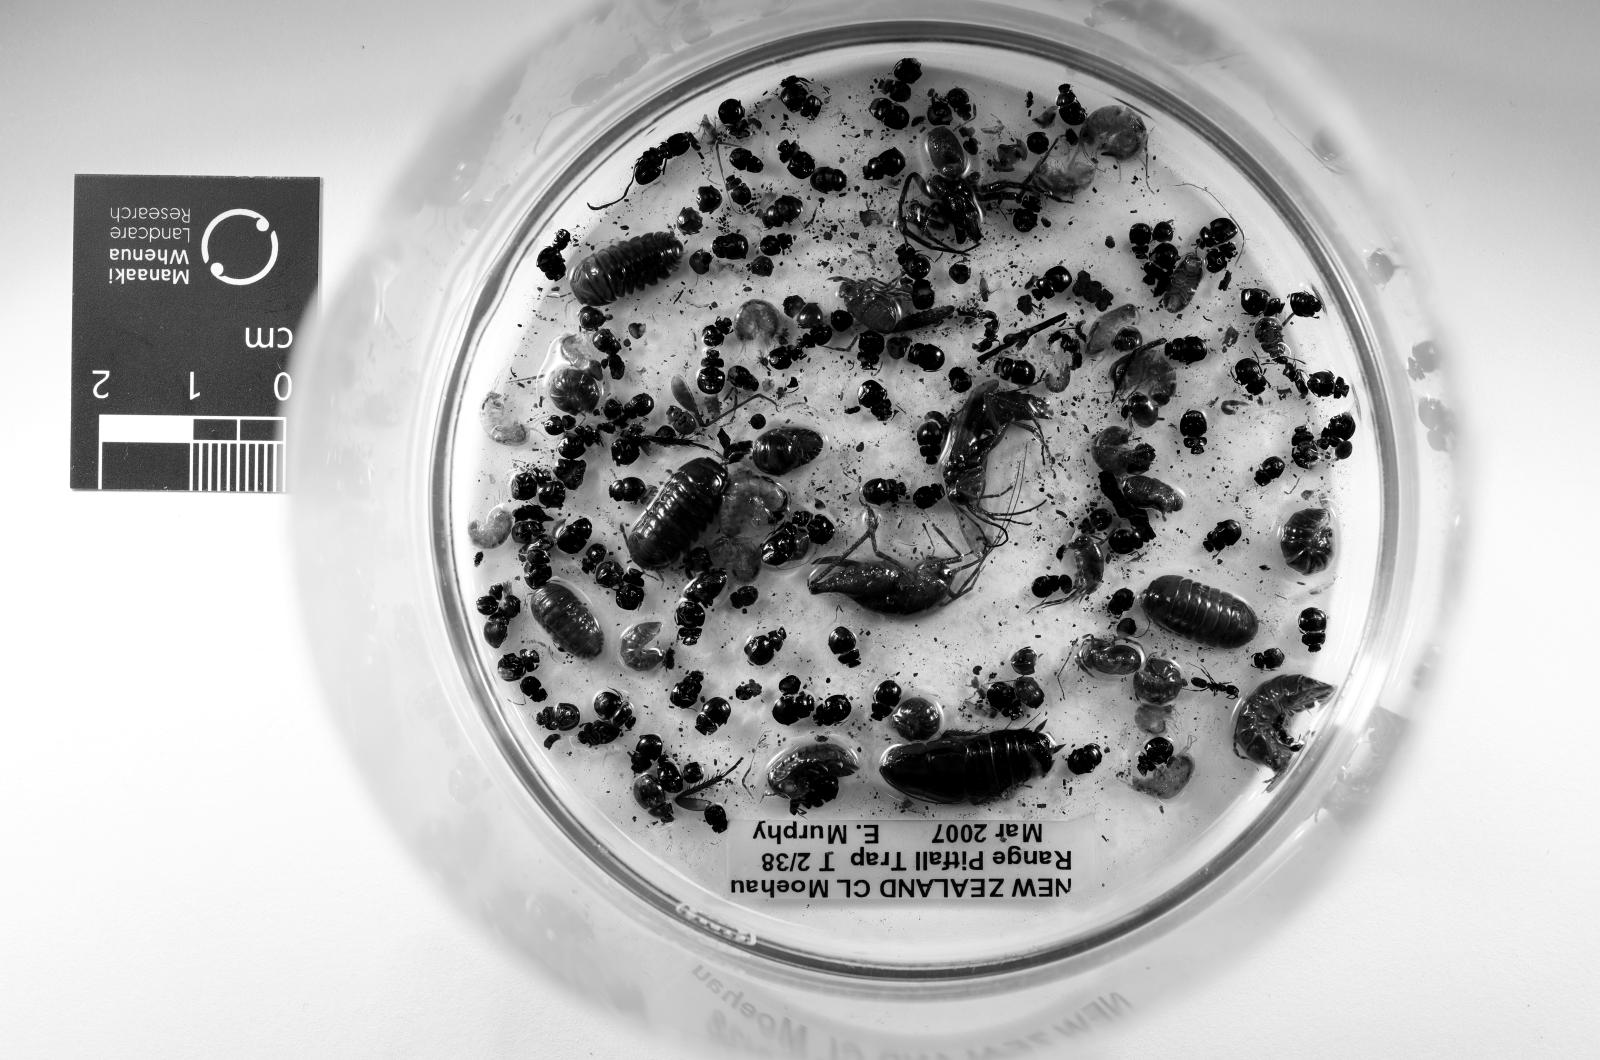acari: (759, 354, 772, 366)
amphipoda: (719, 469, 791, 537), (1044, 537, 1106, 606), (1109, 345, 1175, 407), (1078, 106, 1147, 161), (1131, 755, 1194, 801), (478, 391, 528, 447), (706, 537, 762, 584), (1028, 161, 1097, 199), (1088, 304, 1138, 354), (469, 503, 512, 550), (734, 301, 781, 342), (559, 335, 603, 370), (1134, 705, 1172, 736), (1041, 363, 1072, 394)
araneae: (897, 127, 1041, 252)
blattodea: (878, 720, 1062, 804)
coleoptera: (634, 773, 675, 823), (681, 568, 728, 609), (744, 627, 788, 665), (594, 689, 634, 730), (778, 140, 816, 180), (856, 379, 894, 419), (794, 509, 834, 547), (759, 525, 797, 565), (1144, 242, 1178, 286), (772, 693, 816, 727), (675, 599, 706, 646), (559, 425, 600, 460), (897, 242, 931, 283), (1031, 267, 1072, 301), (784, 295, 825, 329), (1056, 84, 1088, 127), (1138, 736, 1175, 773), (1319, 413, 1356, 450), (862, 149, 906, 180), (994, 357, 1038, 388), (497, 649, 541, 680), (869, 96, 909, 130), (988, 680, 1022, 720), (538, 702, 581, 733), (1297, 609, 1328, 652), (556, 519, 591, 556), (1203, 519, 1241, 553), (697, 348, 725, 394), (781, 87, 822, 118), (719, 99, 750, 140), (762, 196, 803, 227), (1197, 217, 1238, 248), (509, 469, 550, 500), (812, 696, 853, 727), (828, 627, 859, 668), (669, 671, 703, 708), (697, 699, 731, 736), (522, 550, 553, 590), (631, 733, 662, 773), (916, 419, 944, 463), (862, 478, 906, 506), (616, 568, 644, 612), (1291, 425, 1319, 469), (1241, 289, 1284, 317), (1166, 335, 1209, 363), (1178, 410, 1206, 453), (634, 149, 666, 186), (1234, 357, 1266, 394), (906, 342, 944, 373), (856, 329, 884, 370), (1066, 745, 1103, 776), (872, 680, 900, 720), (1306, 373, 1350, 398), (578, 720, 622, 745), (609, 432, 641, 466), (538, 245, 566, 283), (712, 233, 750, 261), (609, 475, 647, 503), (1109, 528, 1147, 556), (1206, 242, 1238, 273), (1012, 677, 1044, 708), (947, 87, 975, 121), (725, 174, 753, 208), (656, 758, 684, 792), (1078, 506, 1112, 534), (809, 168, 847, 193), (1128, 224, 1153, 261), (484, 612, 509, 649), (512, 519, 544, 547), (759, 233, 794, 258), (703, 317, 731, 348), (666, 407, 697, 435), (728, 149, 762, 174), (769, 345, 803, 370), (659, 134, 694, 158), (909, 279, 934, 311), (912, 484, 944, 509), (581, 543, 606, 575), (594, 329, 622, 357), (1291, 292, 1322, 317), (800, 323, 831, 348), (728, 366, 759, 391), (1256, 457, 1284, 484), (1250, 649, 1284, 671), (878, 78, 909, 102), (625, 394, 653, 419), (947, 366, 972, 394), (519, 677, 547, 702), (703, 804, 728, 832), (728, 587, 759, 609), (603, 398, 628, 425), (1031, 575, 1059, 599), (544, 416, 575, 435), (553, 230, 572, 252), (747, 118, 762, 130)
diptera: (963, 276, 1005, 304), (1025, 90, 1034, 112)
formicidae: (1275, 354, 1309, 398), (972, 311, 1000, 354), (1050, 332, 1081, 370), (1191, 677, 1238, 699)
hymenoptera: (938, 382, 1053, 553)
isopoda: (625, 460, 728, 571), (1234, 674, 1334, 773), (1141, 575, 1259, 649), (572, 233, 684, 307), (531, 581, 603, 661), (769, 742, 859, 798), (1278, 509, 1334, 575), (753, 429, 822, 475), (1134, 658, 1188, 705), (891, 696, 944, 742), (1162, 255, 1203, 314), (619, 621, 666, 671), (550, 370, 600, 413)
opiliones: (834, 276, 903, 332), (1075, 637, 1144, 677), (1122, 475, 1184, 512), (1253, 317, 1284, 357)
orthoptera: (806, 506, 988, 618)
